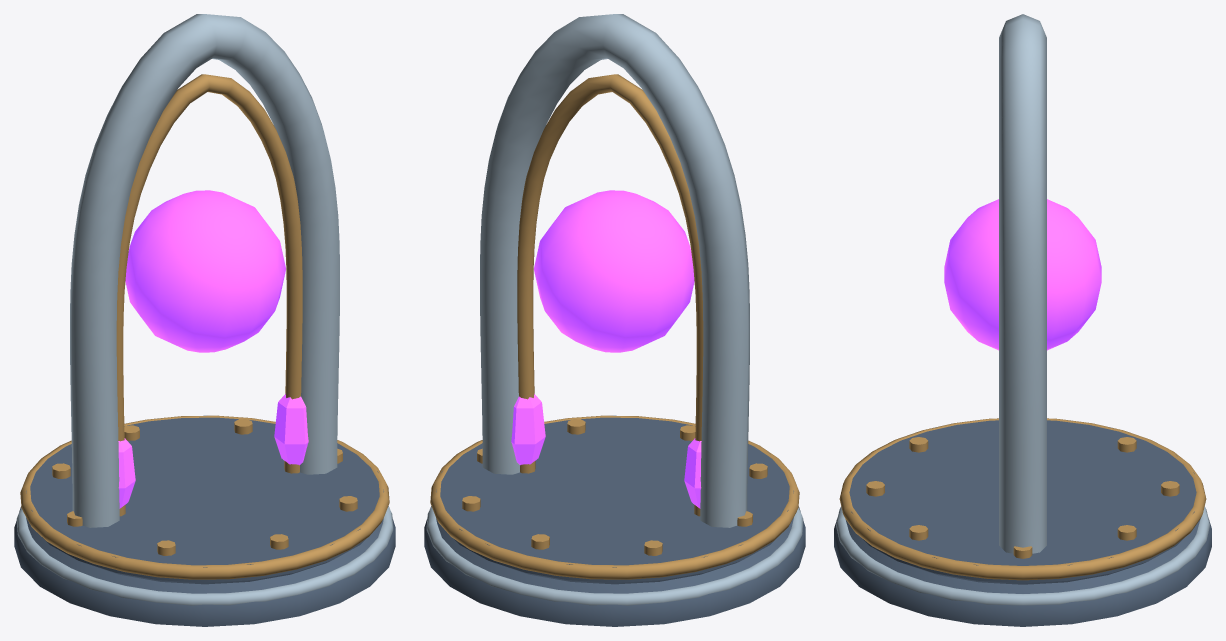
The model's file is moonsteel-convergence-recall-beacon-6b764d55__18163.glb.
3 views of the same model, side by side, from view 1: azimuth 30°, elevation 25°; view 2: azimuth 150°, elevation 25°; view 3: azimuth 270°, elevation 25° (orthographic).
Parts seen in each view (by area): view 1: recall-beacon; view 2: recall-beacon; view 3: recall-beacon.
Boxes of the visible parts, left/top/right/bottom form: recall-beacon: left=14, top=14, right=395, bottom=626; recall-beacon: left=424, top=14, right=805, bottom=626; recall-beacon: left=834, top=14, right=1211, bottom=626.
Bounding box in the file's own units: 2.2 × 3.39 × 2.2.
